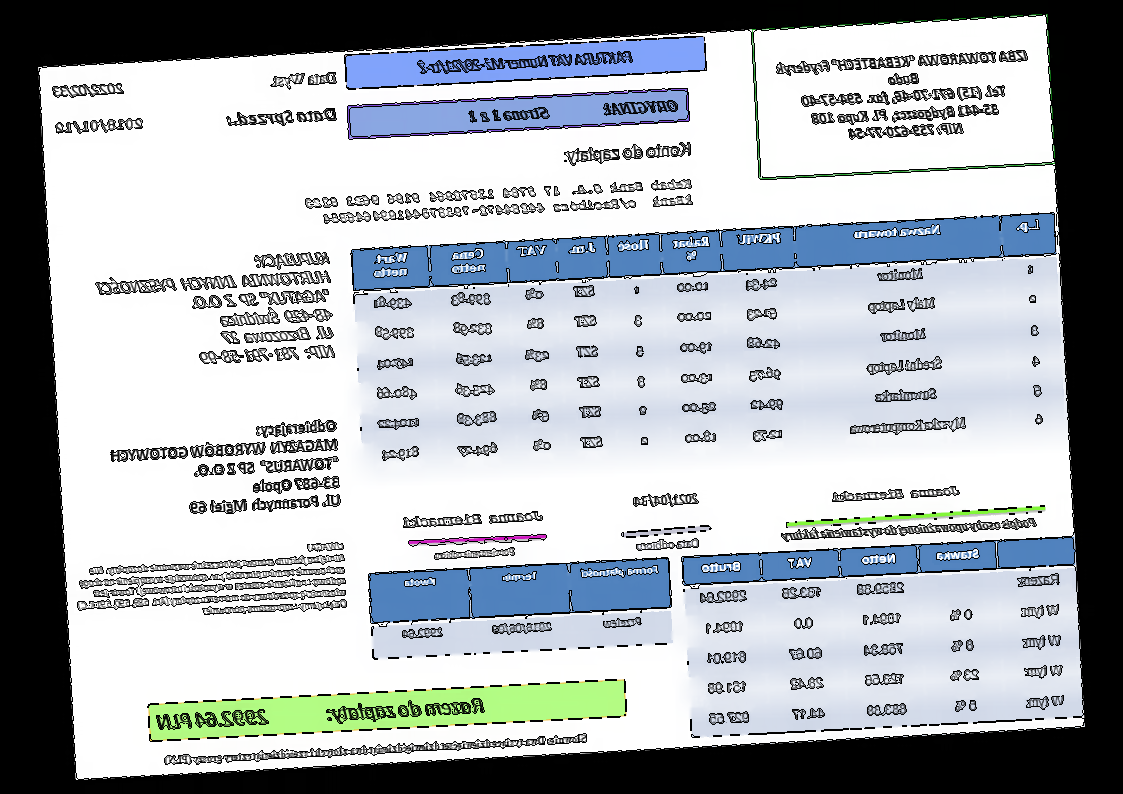Table: (350, 212, 1068, 474), (680, 535, 1083, 738), (368, 557, 674, 660)
TextBox: (93, 248, 337, 373), (773, 47, 1033, 147), (108, 417, 343, 522), (73, 538, 349, 624), (302, 176, 694, 228), (162, 731, 590, 768), (155, 695, 487, 735), (782, 514, 1038, 543), (415, 48, 635, 77), (465, 96, 680, 124), (560, 139, 694, 168), (401, 508, 545, 531), (226, 104, 339, 131), (831, 483, 961, 505), (53, 114, 146, 136), (49, 80, 128, 100), (265, 69, 339, 90), (632, 490, 701, 511), (433, 545, 516, 561), (636, 537, 702, 553)
